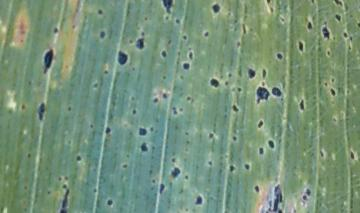tarspot: (273, 183, 283, 213), (43, 48, 54, 74), (60, 188, 69, 213), (256, 86, 269, 103), (117, 50, 128, 66), (321, 23, 330, 40), (38, 103, 46, 121), (162, 1, 173, 13), (135, 38, 145, 49), (271, 87, 282, 97), (171, 167, 181, 178), (297, 40, 306, 52), (212, 3, 221, 14), (247, 68, 256, 79), (140, 142, 149, 152), (138, 127, 147, 136), (210, 79, 219, 88), (104, 125, 112, 135), (257, 119, 264, 130), (159, 183, 166, 194), (160, 49, 168, 58), (267, 140, 275, 149), (299, 99, 305, 111), (171, 105, 178, 115), (333, 1, 343, 8), (349, 149, 355, 160), (92, 81, 100, 89), (182, 62, 190, 70), (232, 104, 240, 112), (99, 31, 106, 40), (276, 52, 283, 61), (188, 50, 194, 60), (75, 154, 82, 162), (258, 147, 265, 155), (305, 188, 312, 196), (262, 68, 267, 79), (330, 88, 336, 97), (343, 31, 349, 40), (63, 174, 70, 181), (162, 92, 169, 99), (243, 163, 250, 170), (196, 197, 203, 204), (301, 194, 308, 201), (183, 173, 190, 180), (131, 108, 137, 116), (138, 30, 146, 36), (318, 150, 324, 158), (307, 21, 312, 30), (336, 13, 341, 22), (242, 23, 246, 34), (7, 108, 14, 114), (57, 175, 63, 182), (67, 104, 73, 111), (107, 199, 113, 206), (103, 68, 109, 75), (164, 14, 170, 21), (174, 18, 181, 24), (203, 31, 210, 37), (182, 34, 188, 41), (207, 159, 213, 166), (208, 131, 214, 138), (179, 188, 186, 194), (230, 165, 235, 173), (232, 135, 237, 143), (53, 27, 59, 33), (27, 80, 33, 86), (26, 152, 32, 158), (149, 126, 155, 132), (154, 97, 160, 103), (326, 50, 332, 56), (171, 157, 177, 163), (130, 95, 136, 101), (121, 163, 128, 168), (98, 8, 103, 15), (187, 95, 192, 102), (179, 105, 184, 112), (280, 16, 285, 23), (347, 44, 352, 51), (162, 74, 167, 81), (22, 104, 27, 110), (23, 185, 28, 191), (47, 189, 52, 195), (62, 183, 67, 189), (71, 23, 76, 29), (128, 39, 134, 44), (227, 72, 232, 78), (348, 36, 353, 42), (332, 117, 337, 123), (236, 41, 241, 47), (332, 35, 337, 41), (184, 130, 189, 136), (93, 187, 97, 194), (255, 186, 259, 193), (270, 6, 274, 13), (356, 22, 360, 29), (346, 88, 350, 95), (144, 16, 149, 21), (237, 87, 242, 92), (224, 81, 229, 86), (292, 208, 297, 213), (324, 81, 328, 87), (310, 1, 316, 5), (167, 40, 173, 44), (185, 207, 189, 213), (89, 124, 94, 128), (331, 78, 335, 83), (266, 1, 271, 5), (152, 179, 156, 184), (180, 74, 184, 79)
